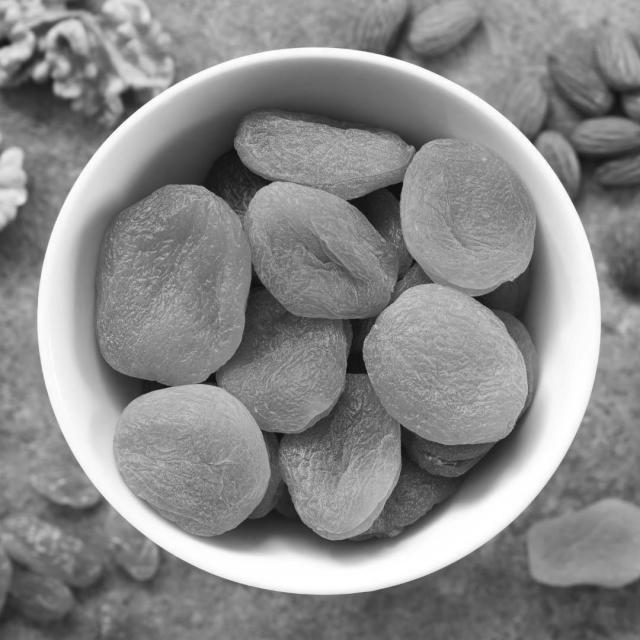Kayisi: (95, 192, 248, 376), (365, 284, 524, 439), (113, 377, 265, 534), (248, 180, 398, 317), (401, 138, 530, 292)
Kayisi Cekirdegi: (549, 50, 617, 117), (410, 3, 485, 46), (574, 118, 640, 152)
